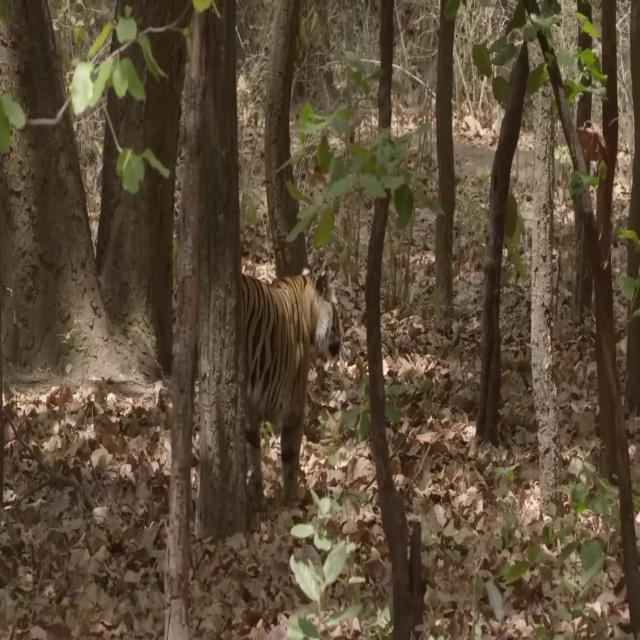tiger: (238, 264, 345, 505)
